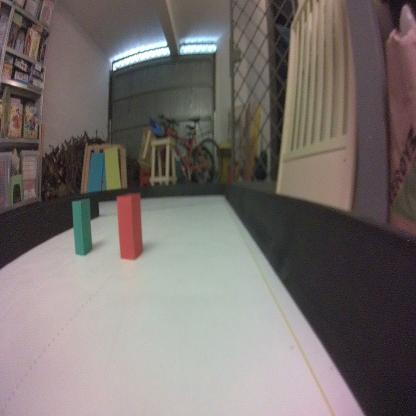green: (70, 194, 94, 260)
red: (115, 193, 144, 260)
